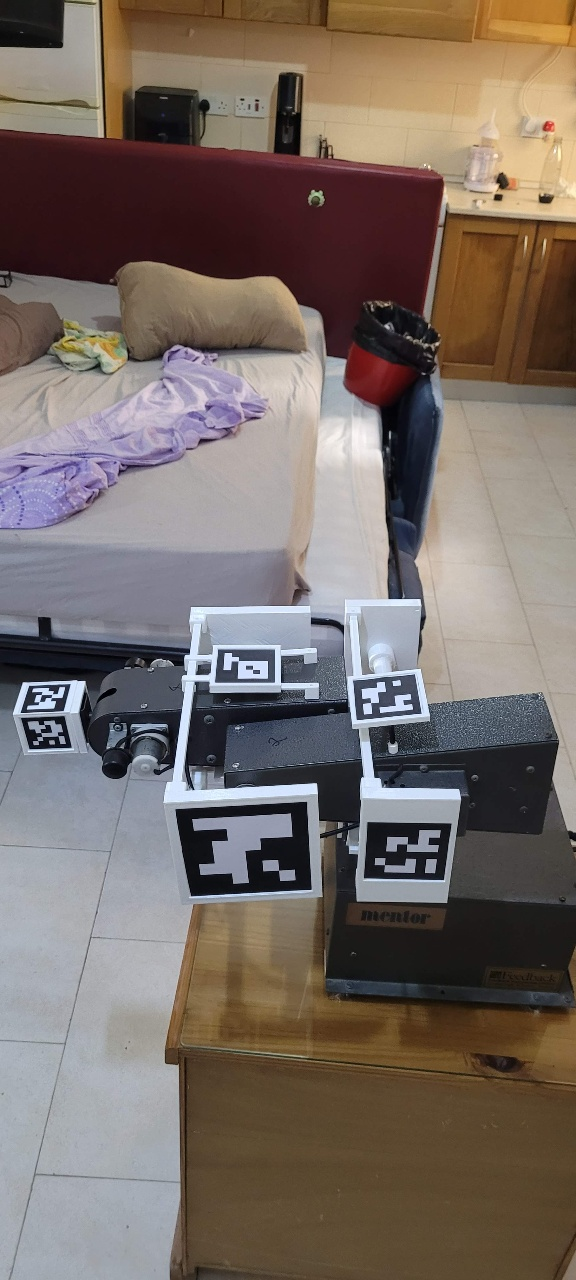Robot: (73, 225, 576, 1048)
